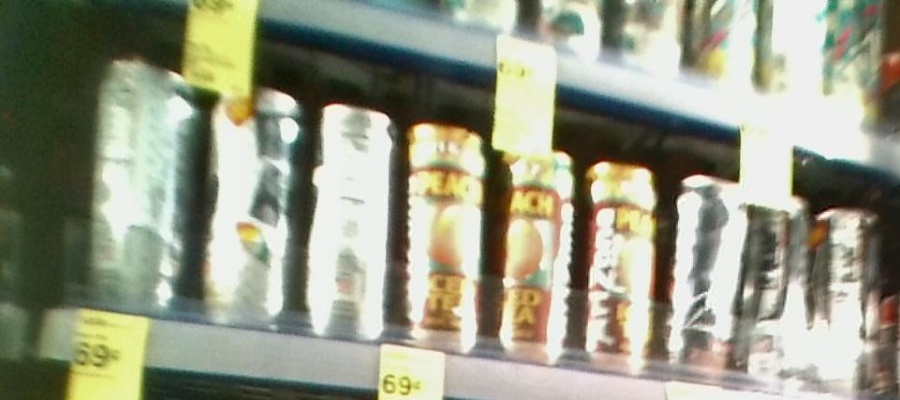bottle: (83, 46, 199, 323), (200, 62, 300, 334), (303, 90, 394, 349), (398, 109, 490, 362), (494, 126, 576, 368), (664, 159, 746, 383), (577, 146, 656, 377), (745, 175, 815, 392), (818, 195, 883, 398)
